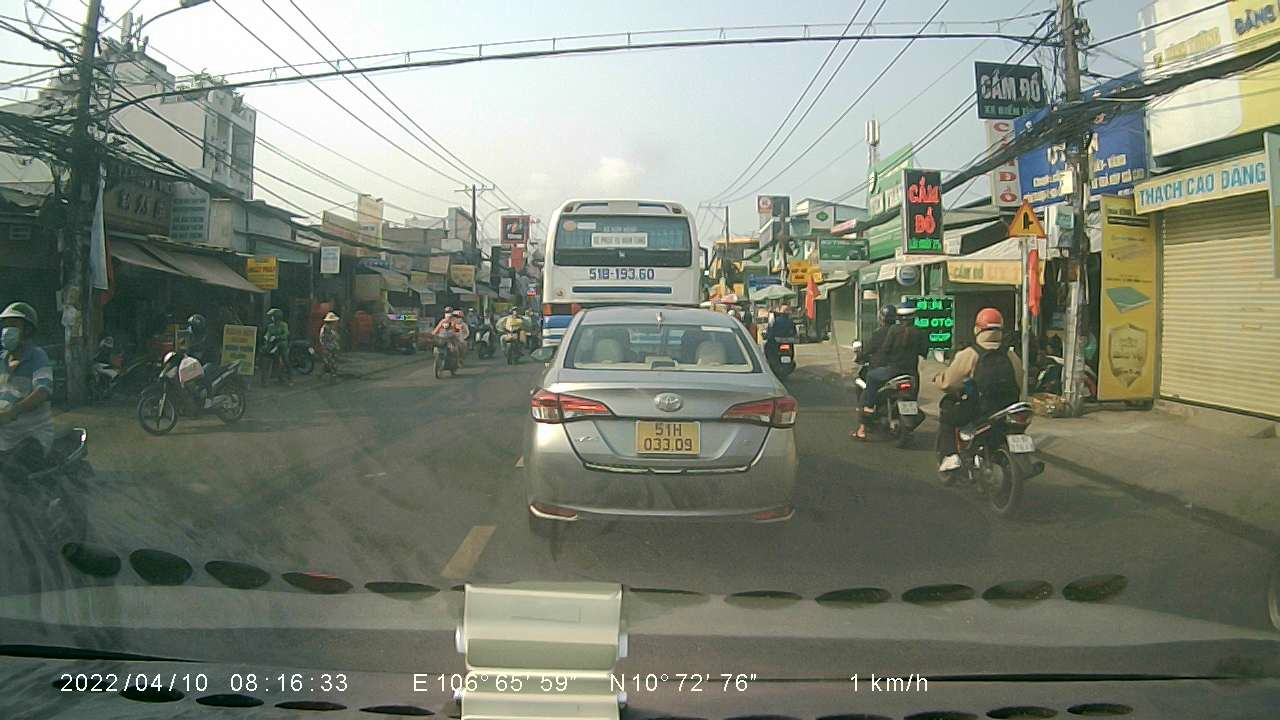Giao nhau voi duong khong uu tien: (1003, 197, 1057, 239)
